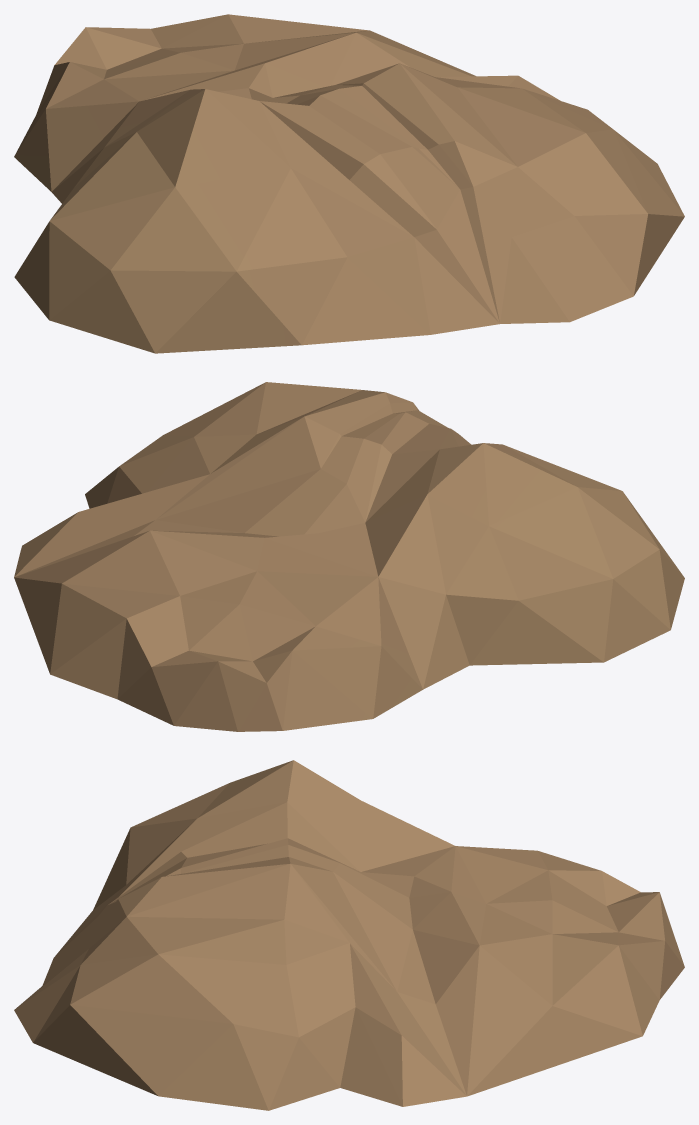
Rendered from SandPatchMedium_01.glb.
3 renders of one model, top to bottom at view 1: azimuth 30°, elevation 25°; view 2: azimuth 150°, elevation 25°; view 3: azimuth 270°, elevation 25°, orthographic. The views are drawn at different scales.
Parts seen in each view (by area): view 1: SandPatchMedium_01; view 2: SandPatchMedium_01; view 3: SandPatchMedium_01.
Part boxes in pixels (<box>): SandPatchMedium_01: <box>14,14,684,353</box>; SandPatchMedium_01: <box>14,382,684,731</box>; SandPatchMedium_01: <box>14,760,684,1110</box>.
Size of what is drawn, in the model's own units: 2.64 by 0.7042 by 2.73.
1 material, 1 textured.
